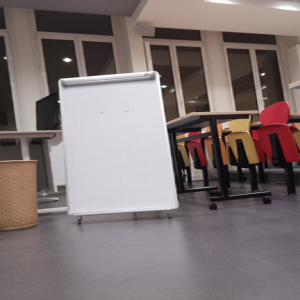big: (58, 73, 181, 221)
medium: (1, 159, 39, 231)
